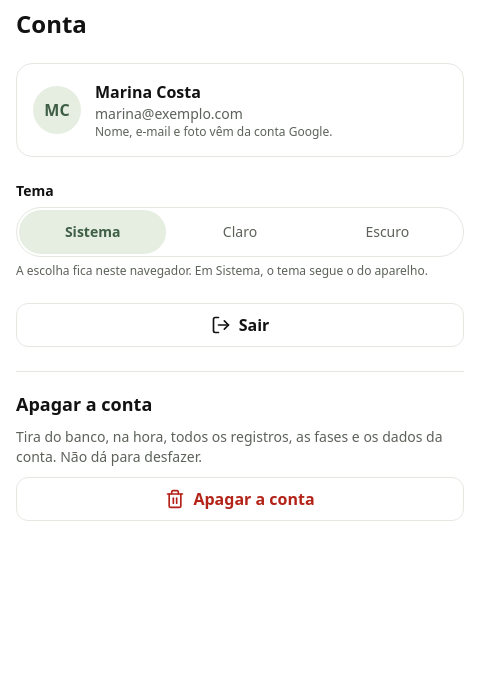
Test case: sair encerra a sessão e volta à entrada
The image size is (481, 685).
Click the button "Sair" at (240, 325), box [16,303,464,347]
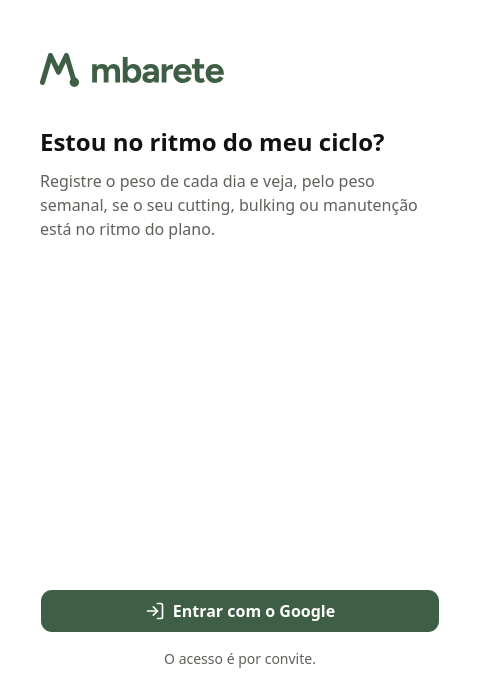
Expected: the link "Entrar com o Google" is shown, [40,589,440,633]
